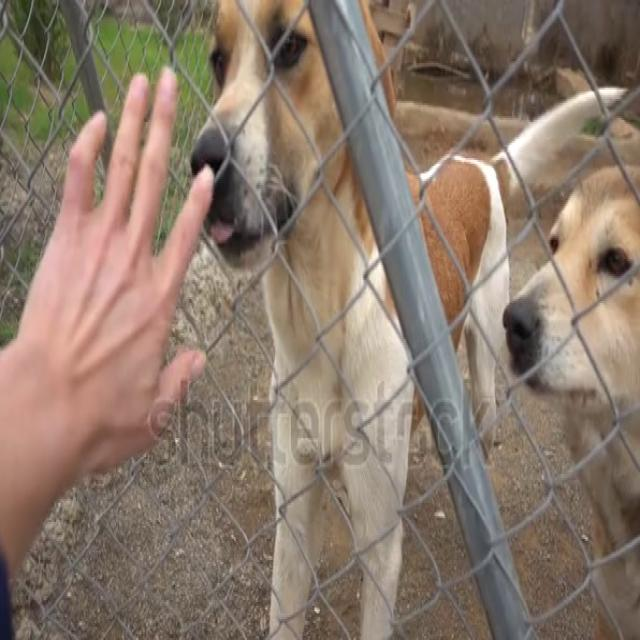normal_animals: (177, 12, 508, 640), (531, 169, 640, 539)
